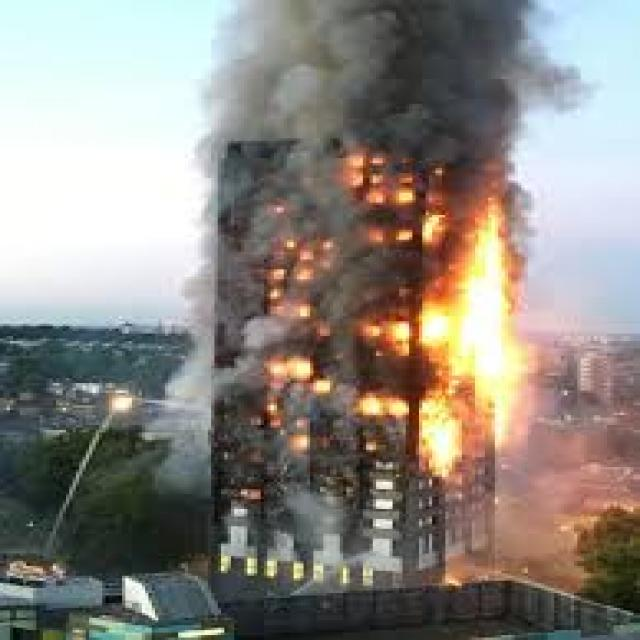fire: (442, 200, 534, 450), (416, 400, 468, 482), (356, 316, 419, 364), (350, 388, 412, 420), (257, 353, 310, 388)
smoke: (195, 2, 597, 178), (162, 245, 287, 494)
